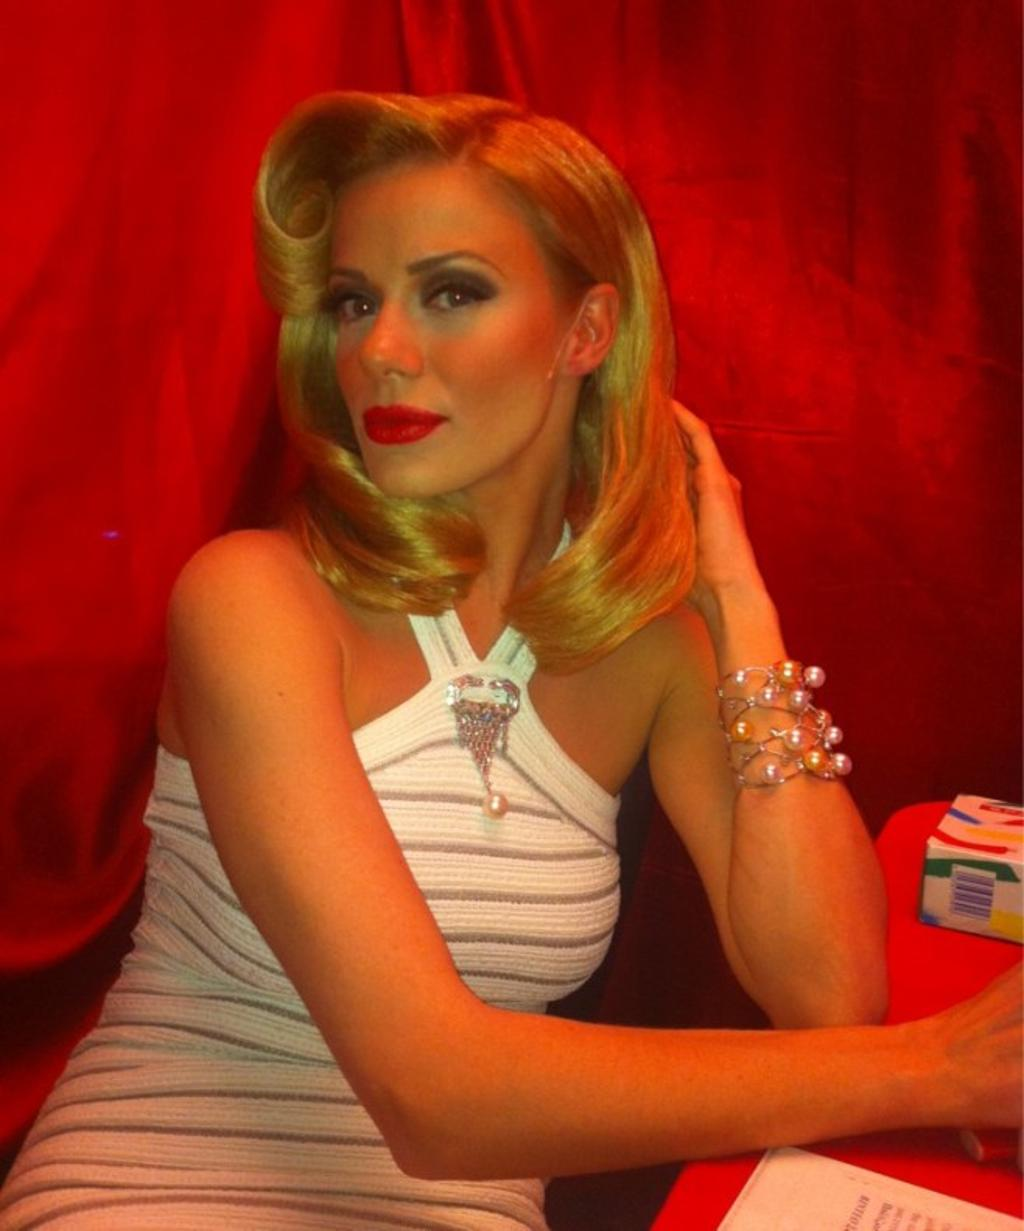face: (322, 137, 560, 495)
